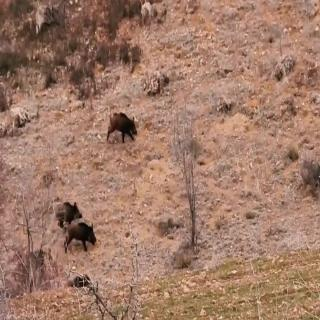Pig: (94, 107, 162, 159), (63, 220, 106, 258), (50, 192, 80, 213)
